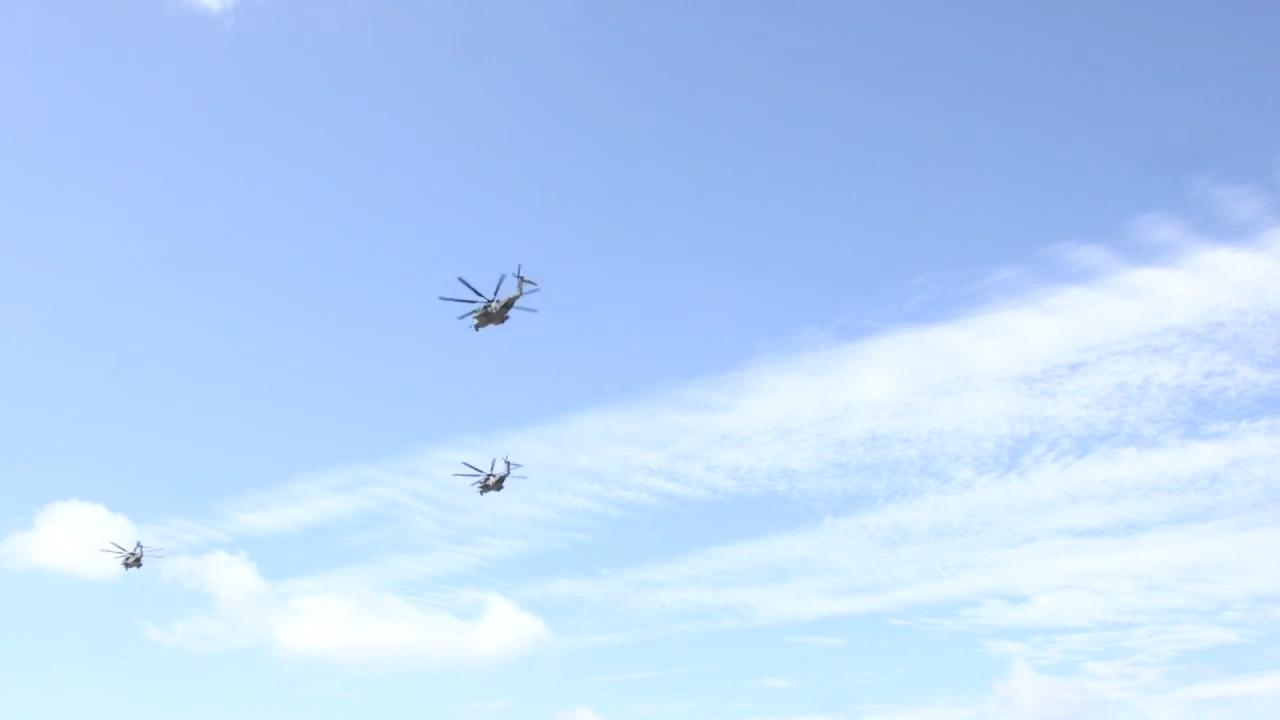Helicopter: (430, 250, 553, 342), (449, 445, 536, 504), (94, 528, 172, 576)
